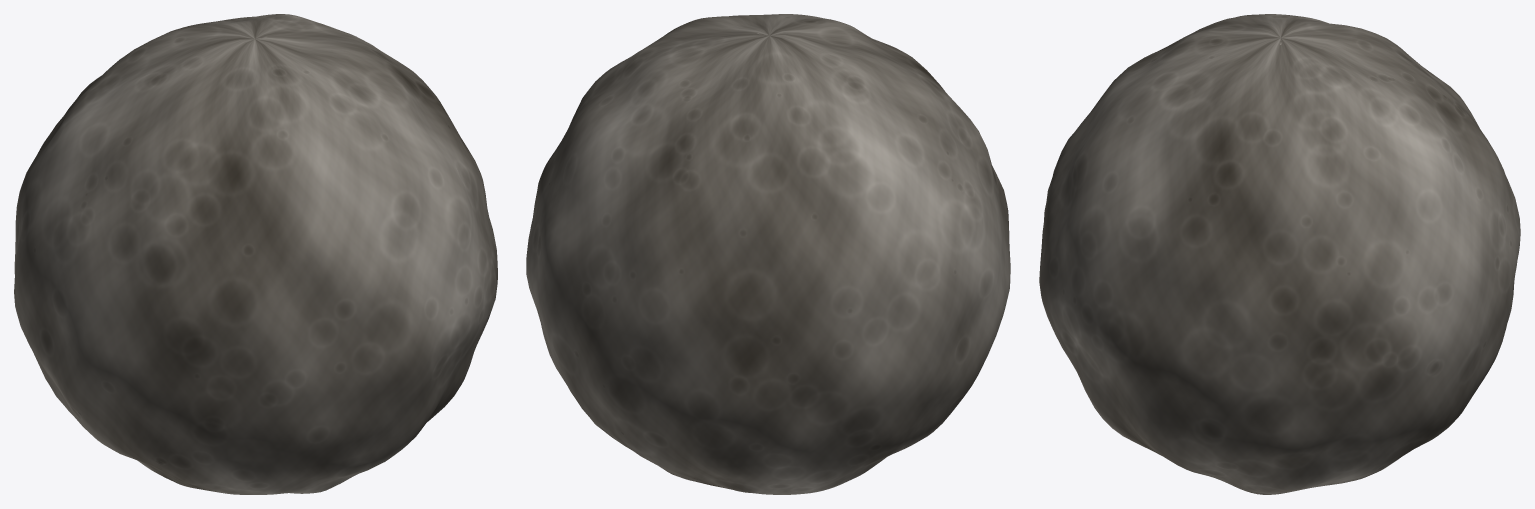
The model's file is mercury.glb.
The picture shows the model from 3 angles, left to right: view 1: azimuth 30°, elevation 25°; view 2: azimuth 150°, elevation 25°; view 3: azimuth 270°, elevation 25°; orthographic projection.
Visible parts, largest first — view 1: mercury | body; view 2: mercury | body; view 3: mercury | body.
Part boxes in pixels (box(x1,y1,x2,y2)): mercury | body: box(14, 14, 497, 494); mercury | body: box(526, 14, 1010, 494); mercury | body: box(1039, 14, 1520, 494).
Size of the model in its own units: 2.01 by 2.01 by 2.02.
1 material, 1 textured.
